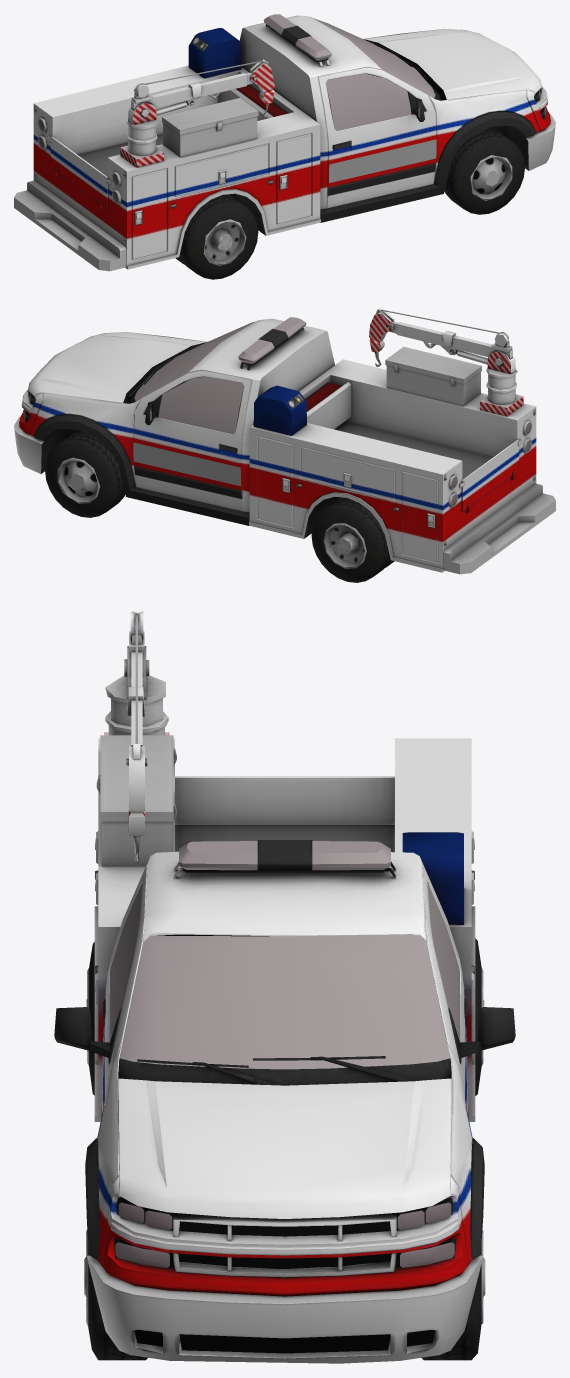
Rendered from civ-service.lod0.glb.
3 renders of one model, top to bottom at view 1: azimuth 30°, elevation 25°; view 2: azimuth 150°, elevation 25°; view 3: azimuth 270°, elevation 25°, orthographic. The views are drawn at different scales.
Visible parts, largest first — view 1: rdservtruck_cervicetruck_tex_0, rdservtruck_glass_tex_0; view 2: rdservtruck_cervicetruck_tex_0, rdservtruck_glass_tex_0; view 3: rdservtruck_cervicetruck_tex_0, rdservtruck_glass_tex_0.
Part boxes in pixels (x1,y1,x2,y2): rdservtruck_cervicetruck_tex_0: (14,15,555,279); rdservtruck_glass_tex_0: (33,14,546,242); rdservtruck_cervicetruck_tex_0: (14,308,555,582); rdservtruck_glass_tex_0: (23,317,536,545); rdservtruck_cervicetruck_tex_0: (54,611,515,1363); rdservtruck_glass_tex_0: (95,841,474,1267).
Size of the model in its own units: 5.27 by 2.19 by 2.23.
Materials: 2 (1 with a texture image).
